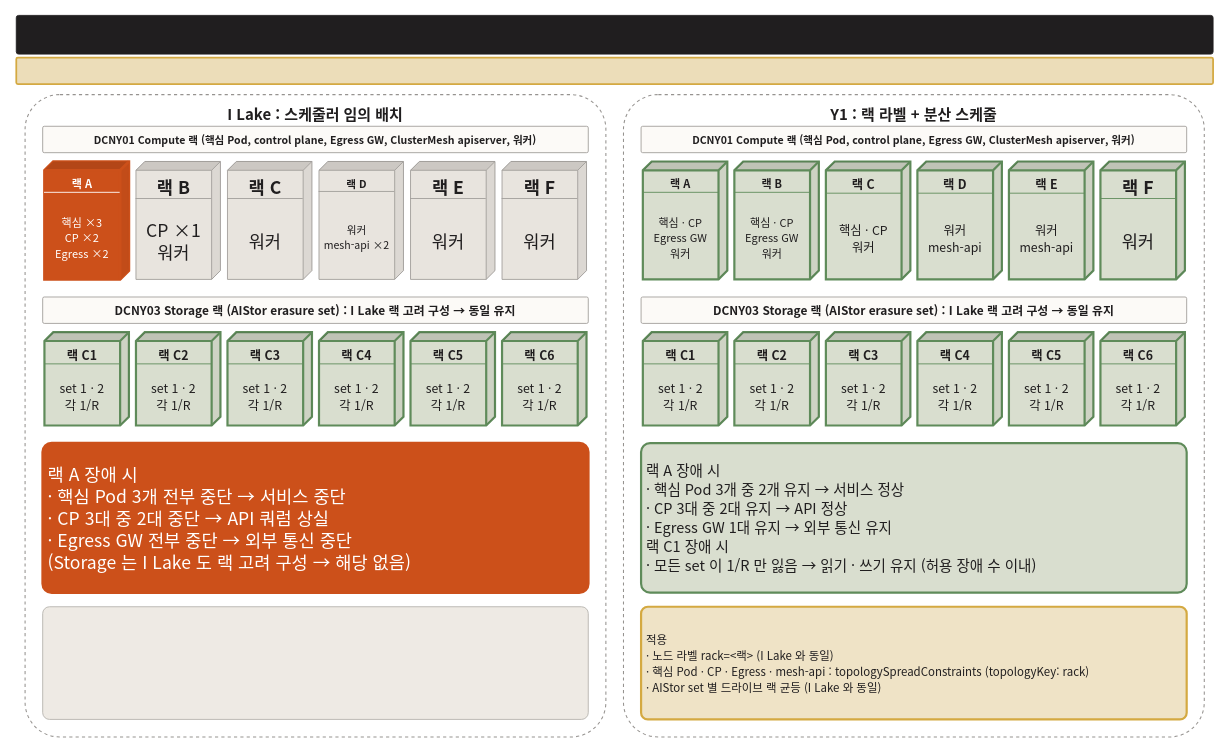
The diagram is 1228 pixels wide and 753 high, and some of its shapes have lost their labels. Each missing label, with the centre of its shape:
"그림 1-2. 랙 서버 균등 분배 : 서비스 · 데이터 배치와 장애 범위" belongs at (614,34).
"랙 = leaf · 전원 · 케이블을 공유하는 장애 단위. 핵심 Pod 와 데이터를 랙에 고르게 놓아야 랙 1개 장애가 1/N 손실로 끝남" belongs at (614,70).
"원인 · rack 라벨은 있으나 분산 기준(topologyKey)으로 쓰지 않으면 스케줄러가 랙을 무시 · 자원 여유가 있는 노드에 먼저 몰림" belongs at (315,662).
